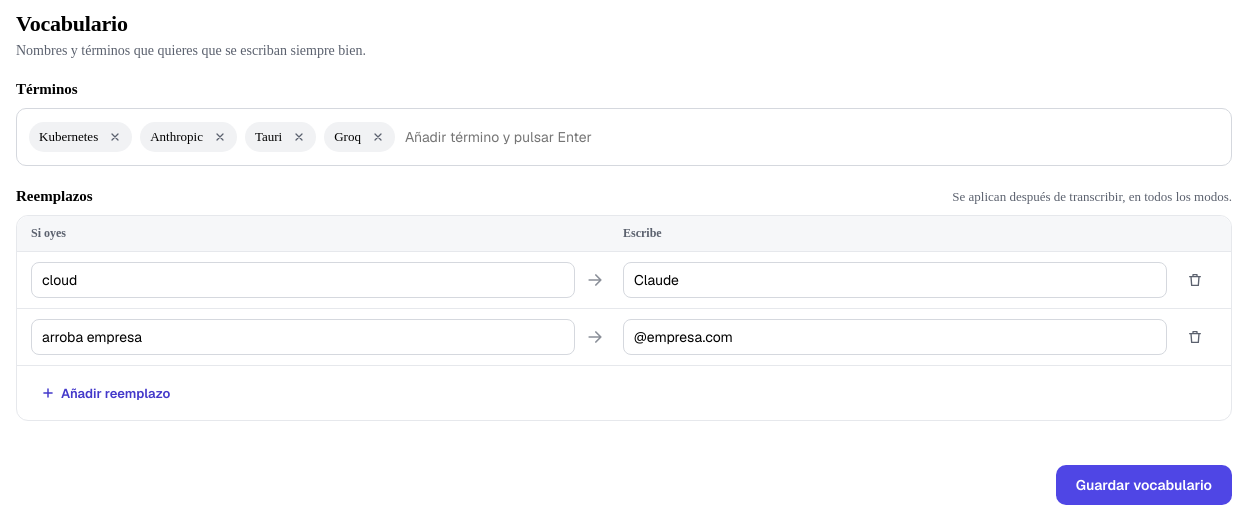
Test: Vocabulary › añade y quita reemplazos y guarda todo
Expected: the field named "Si oyes 1" is shown, [31,262,575,298]
Click the button named "Quitar reemplazo 1" at (1195, 280), box [1177,262,1213,298]
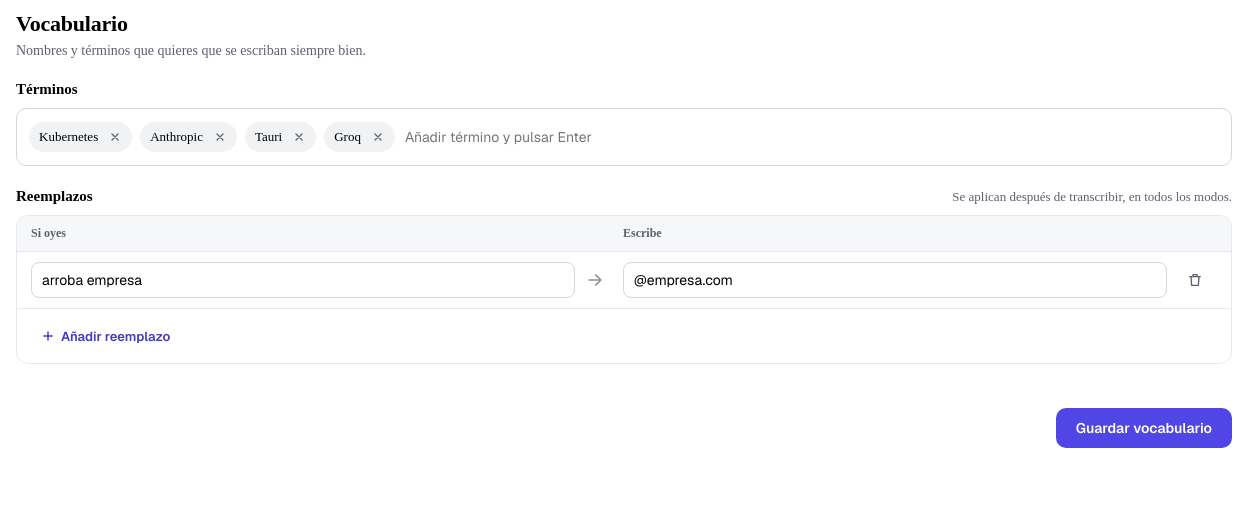
Click the button "Añadir reemplazo" at (106, 336), box [31,319,180,353]
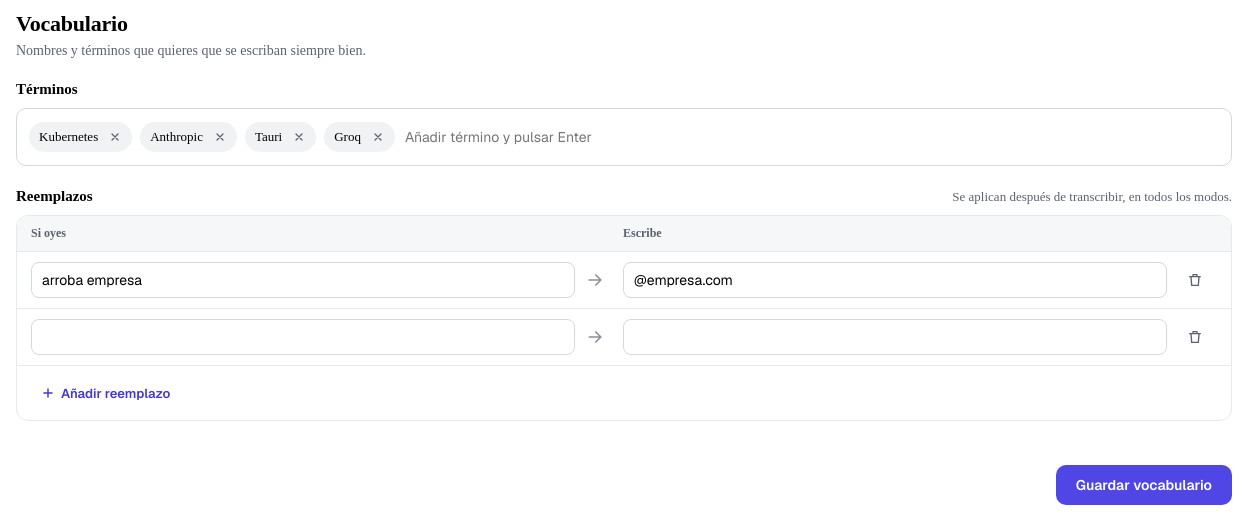
Type "jason" into the field named "Si oyes 2" at (303, 337), box [31,319,575,355]
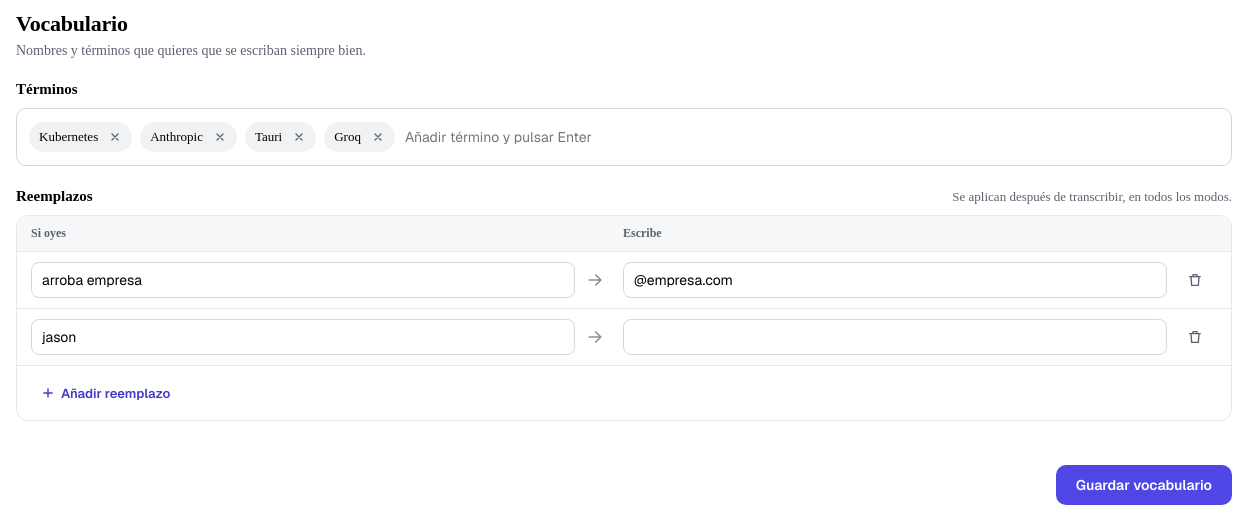
Type "JSON" into the field named "Escribe 2" at (895, 337), box [623,319,1167,355]
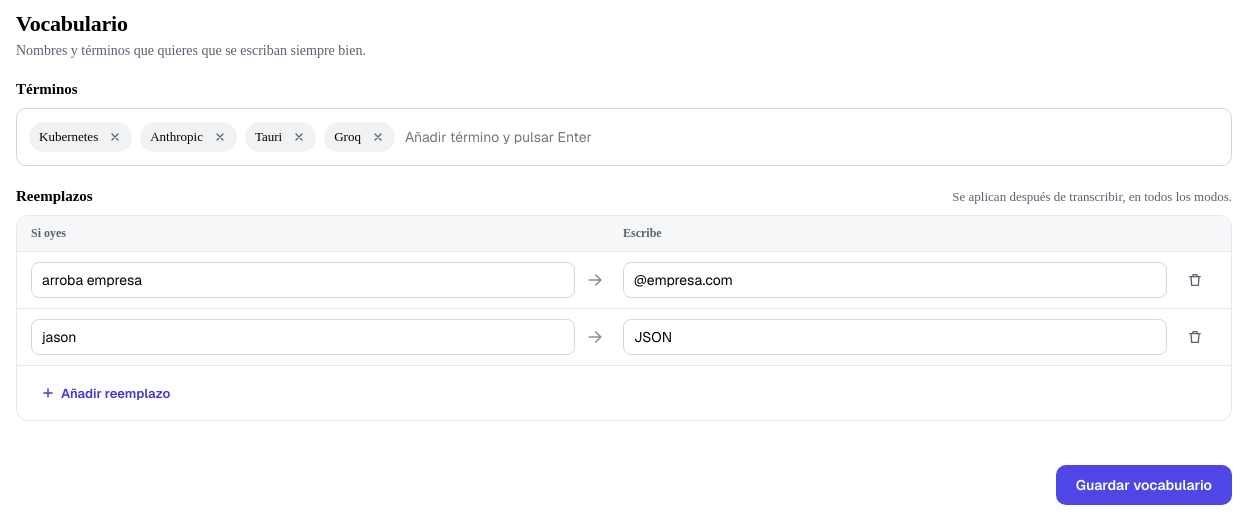
// Un término a medio escribir también se guarda.
Type "Rust" into the field labelled "Añadir término" at (811, 137), box [403,121,1219,153]
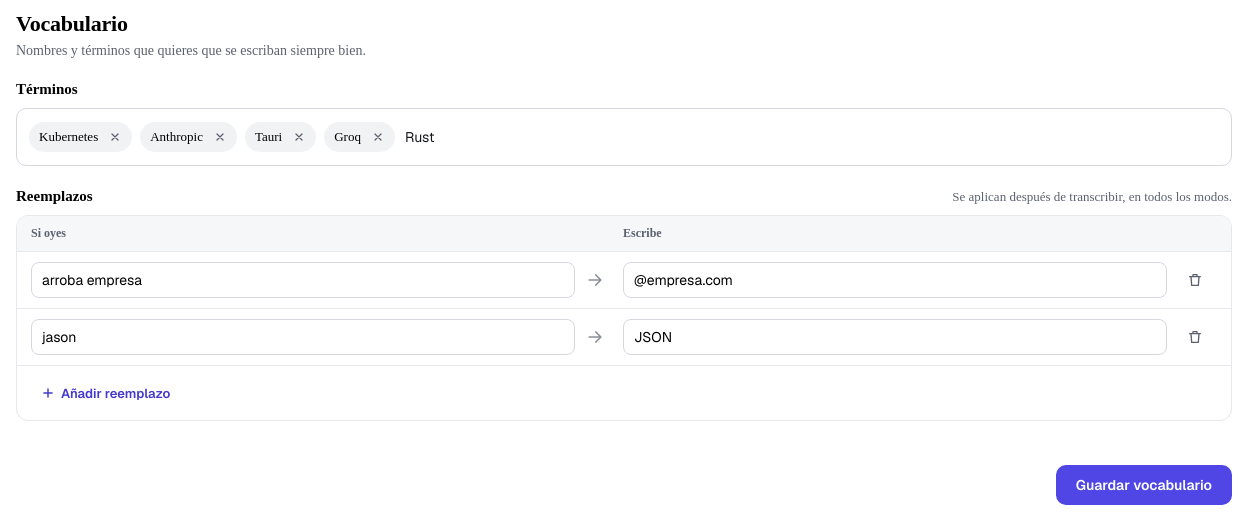
Click the button "Guardar vocabulario" at (1144, 485), box [1056,465,1232,505]
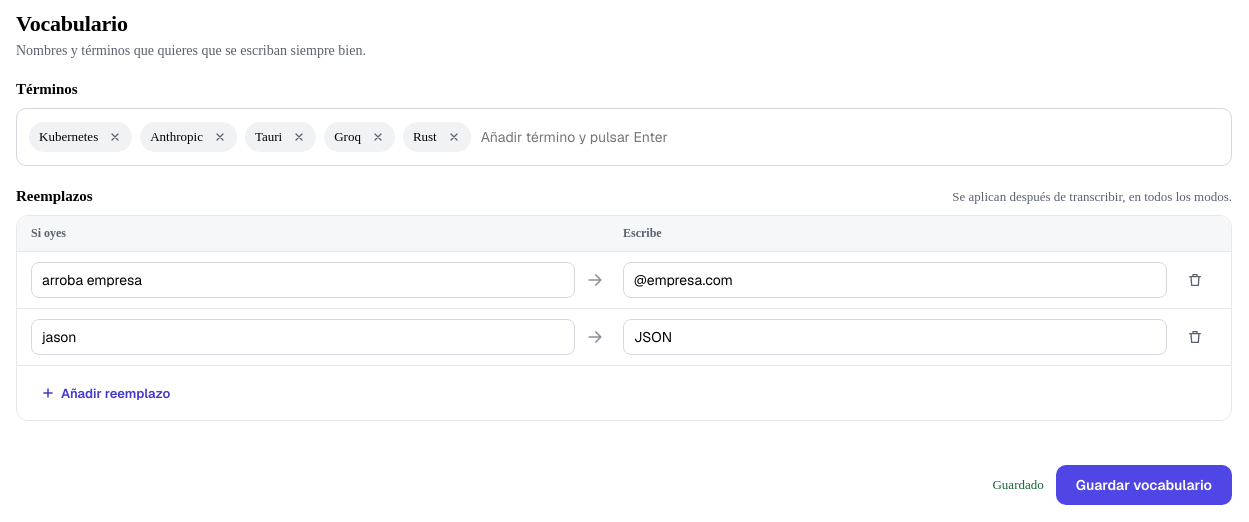
Result: the message reads "Guardado" at [992,477,1044,492]
